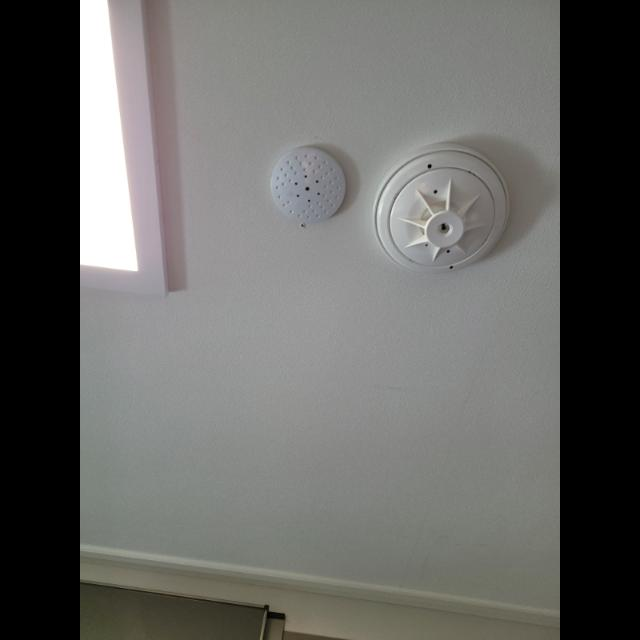Smoke-Detector: (374, 148, 510, 276)
